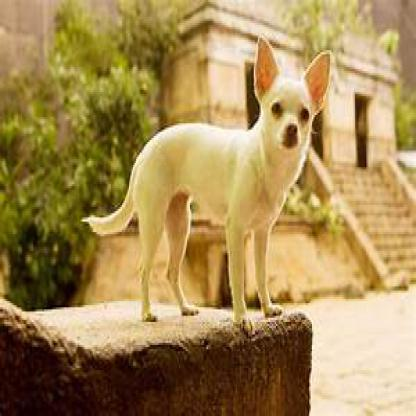dog: (80, 34, 333, 338)
